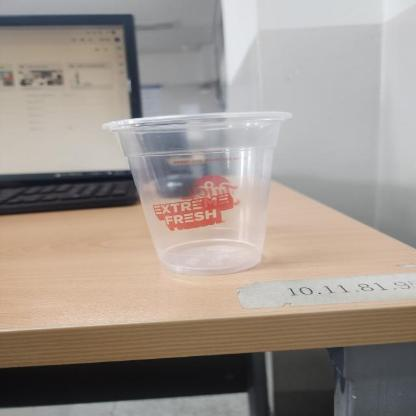Plastic Cup: (102, 110, 294, 274)
